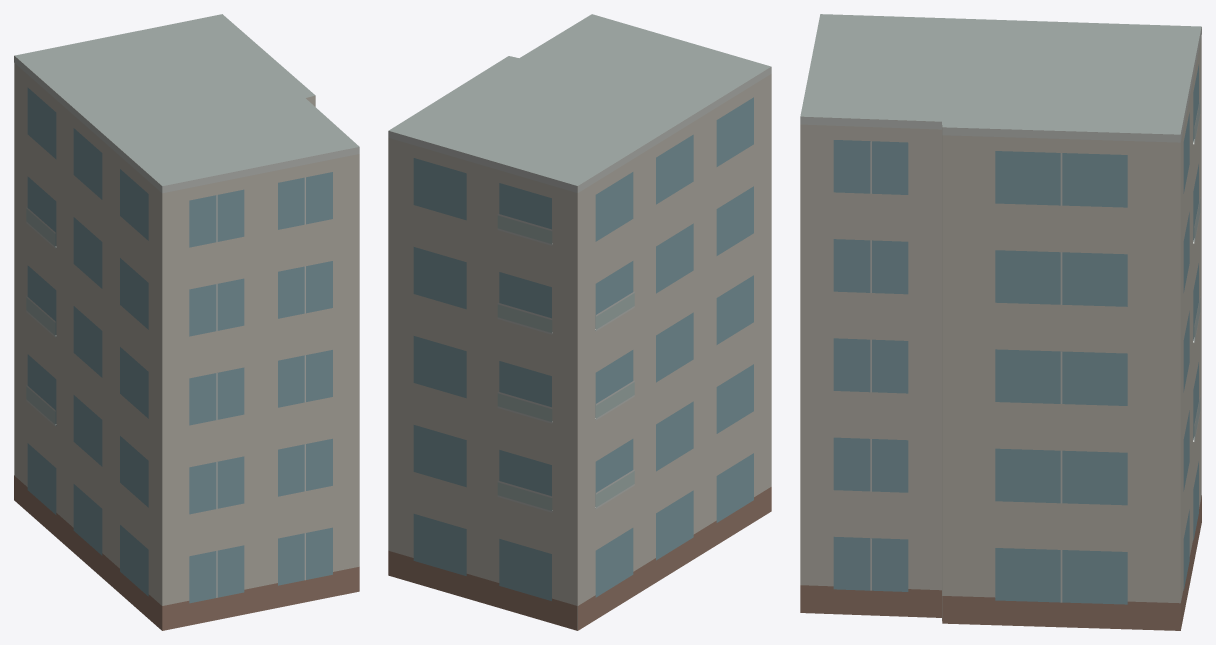
Rendered from survey-upis-33012460.glb.
3 renders of one model, left to right at view 1: azimuth 30°, elevation 25°; view 2: azimuth 150°, elevation 25°; view 3: azimuth 270°, elevation 25°, orthographic. The views are drawn at different scales.
Parts seen in each view (by area): view 1: survey-upis-33012460.tmp; view 2: survey-upis-33012460.tmp; view 3: survey-upis-33012460.tmp.
Part boxes in pixels (box(x1,y1,x2,y2)): survey-upis-33012460.tmp: box(14, 14, 359, 630); survey-upis-33012460.tmp: box(388, 14, 771, 630); survey-upis-33012460.tmp: box(800, 14, 1201, 630).
Size of the model in its own units: 7.99 by 15.3 by 11.23.
